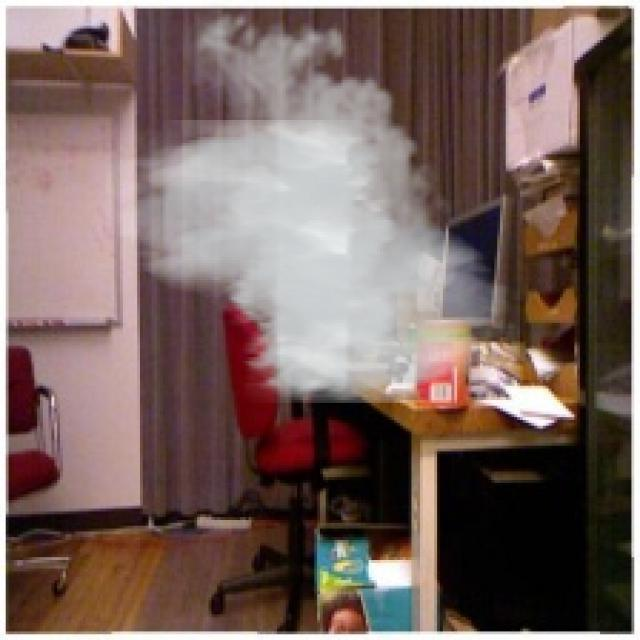Smoke: (106, 0, 520, 403)
